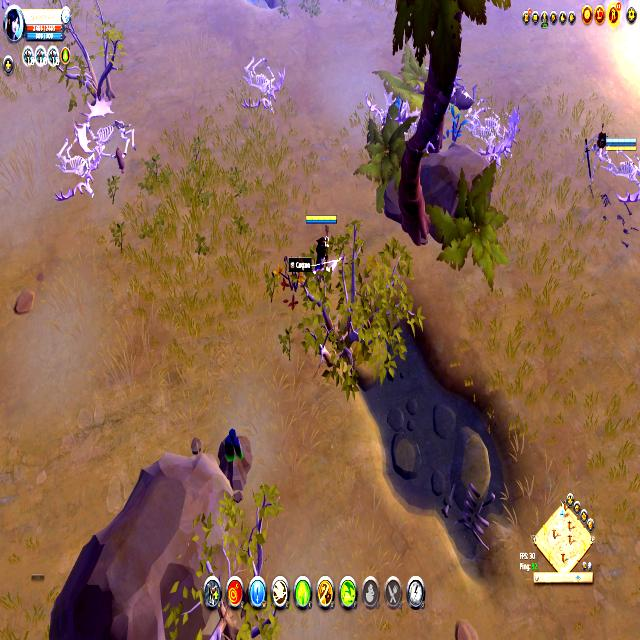mob: (445, 75, 479, 110)
ore: (580, 120, 612, 175)
player: (214, 419, 255, 492)
red: (304, 208, 338, 278), (605, 134, 637, 153)
